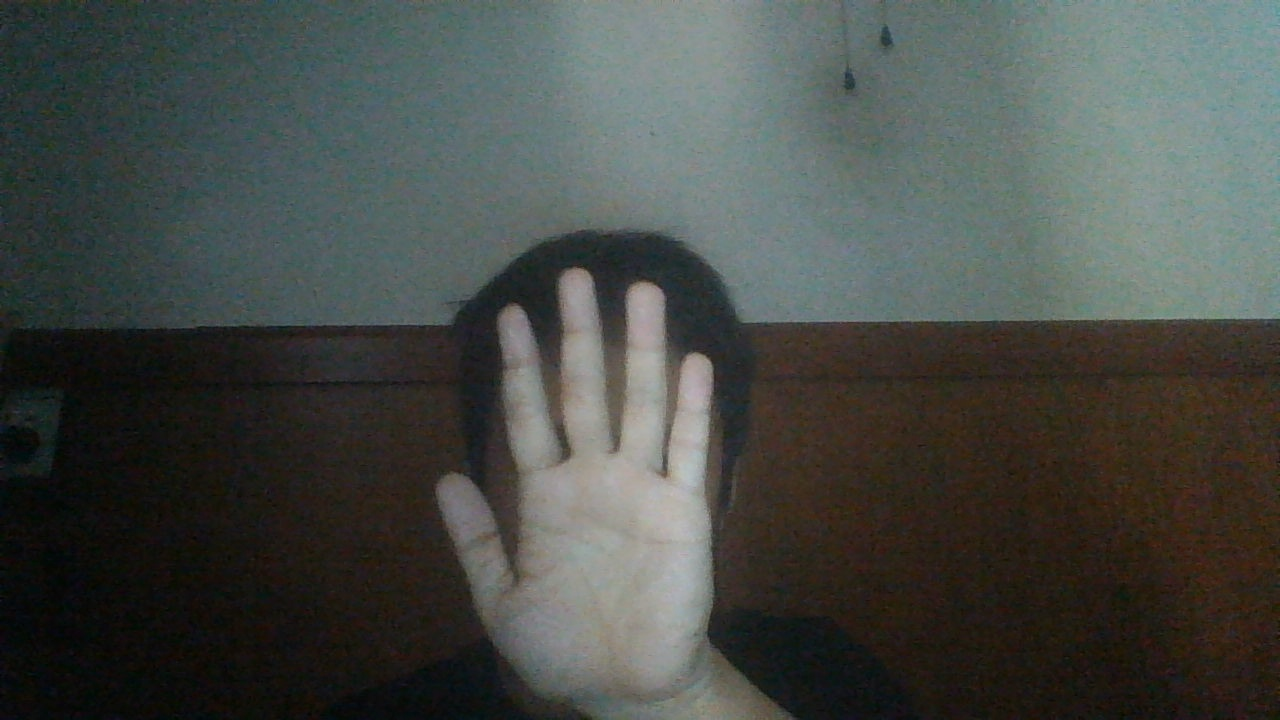check: (434, 259, 717, 720)
